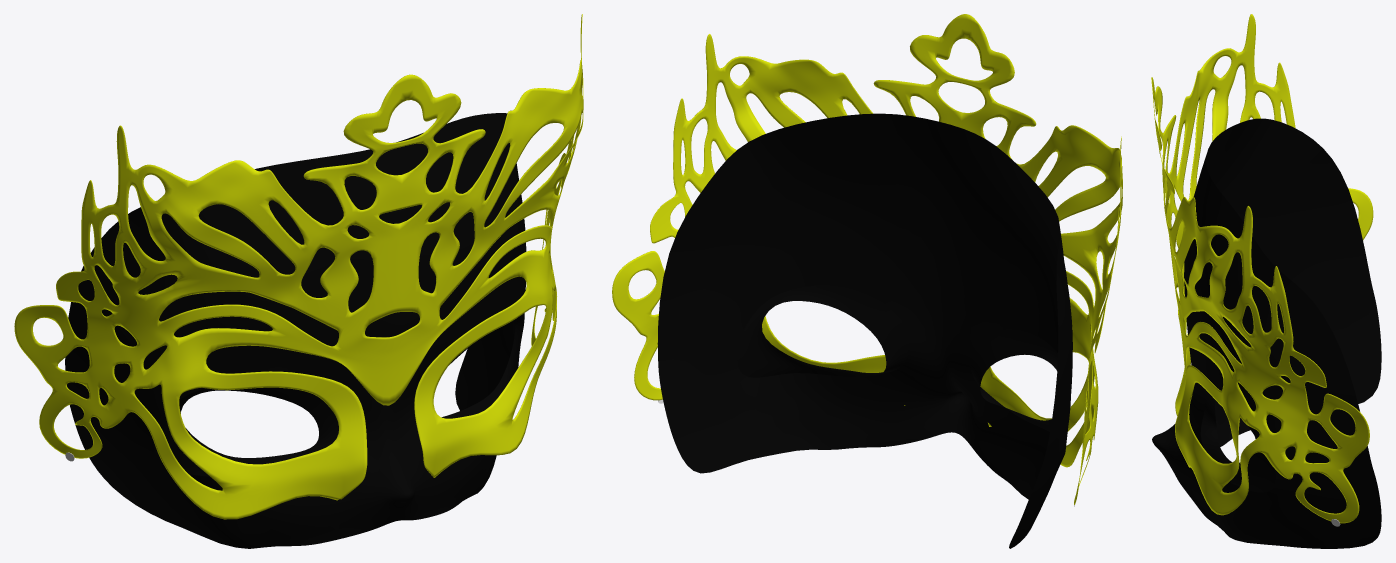
The model's file is Mask_C.fbx.
3 renders of one model, left to right at view 1: azimuth 30°, elevation 25°; view 2: azimuth 150°, elevation 25°; view 3: azimuth 270°, elevation 25°, orthographic. The views are drawn at different scales.
Visible parts, largest first — view 1: Mask_C; view 2: Mask_C; view 3: Mask_C.
Part boxes in pixels (x1=…): Mask_C: x1=14, y1=14, x2=583, y2=548; Mask_C: x1=612, y1=14, x2=1122, y2=548; Mask_C: x1=1151, y1=14, x2=1381, y2=548.
Size of the model in its own units: 28.63 by 24.6 by 12.49.
